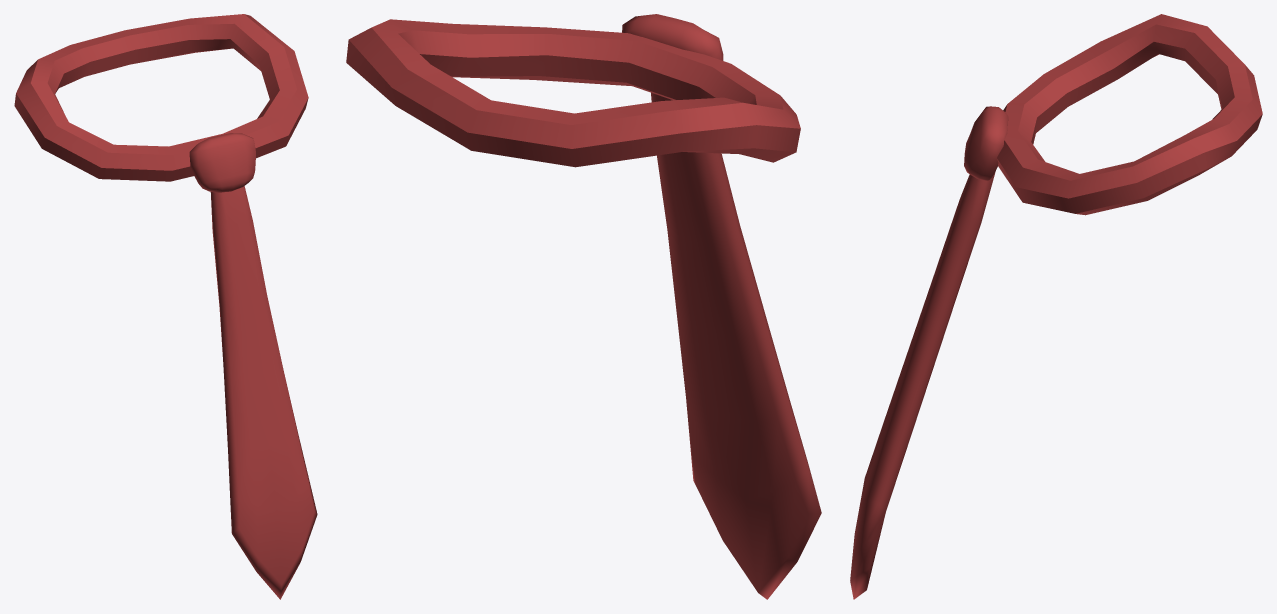
Rendered from skeleton_tie_v001.fbx.
3 views of the same model, side by side, from view 1: azimuth 30°, elevation 25°; view 2: azimuth 150°, elevation 25°; view 3: azimuth 270°, elevation 25° (orthographic). The views are drawn at different scales.
Parts seen in each view (by area): view 1: skeleton_tie; view 2: skeleton_tie; view 3: skeleton_tie.
Boxes of the visible parts, left/top/right/bottom form: skeleton_tie: left=14, top=14, right=317, bottom=599; skeleton_tie: left=346, top=14, right=821, bottom=599; skeleton_tie: left=850, top=14, right=1262, bottom=599.
Size of the model in its own units: 21.7 by 35.36 by 25.24.
